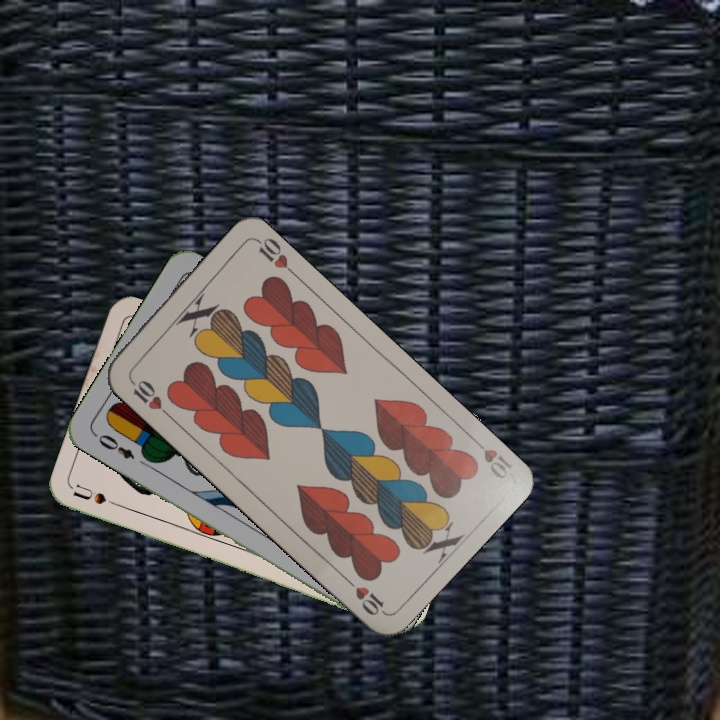EO: (90, 429, 137, 462)
H10: (467, 432, 515, 483), (125, 374, 172, 419)
SU: (70, 481, 129, 512)
